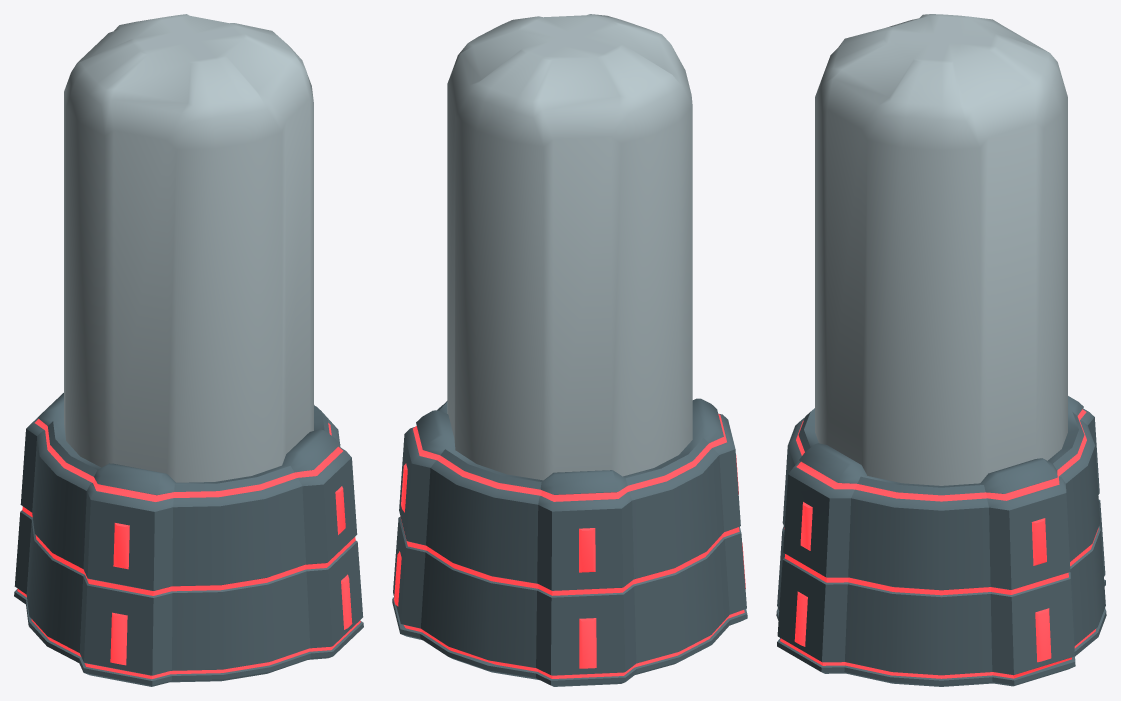
File: flower.cyberpunk.fbx
3 views of the same model, side by side, from view 1: azimuth 30°, elevation 25°; view 2: azimuth 150°, elevation 25°; view 3: azimuth 270°, elevation 25° (orthographic).
Parts seen in each view (by area): view 1: Cylinder; view 2: Cylinder; view 3: Cylinder.
Part boxes in pixels (x1=…): Cylinder: x1=14, y1=14, x2=363, y2=686; Cylinder: x1=392, y1=14, x2=747, y2=686; Cylinder: x1=776, y1=14, x2=1106, y2=686.
Size of the model in its own units: 30.76 by 59.78 by 30.76.
